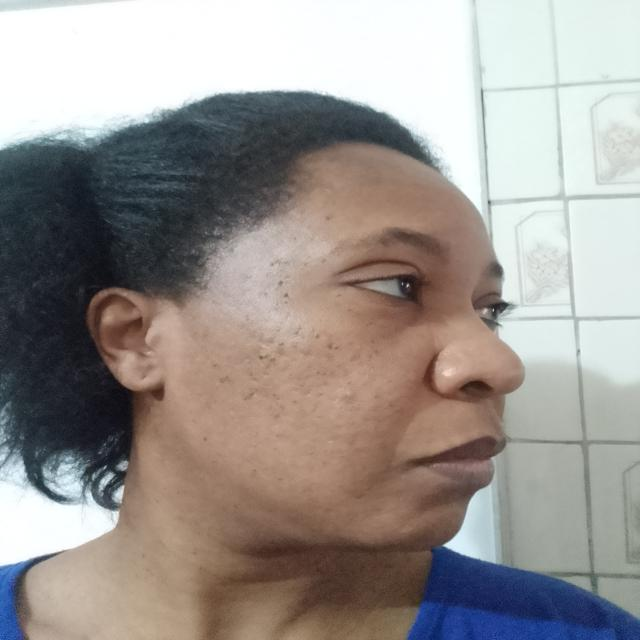Acne: (334, 397, 368, 411), (386, 401, 407, 420), (240, 308, 258, 324), (241, 390, 260, 404), (267, 405, 287, 418), (290, 233, 304, 249), (323, 210, 340, 223), (259, 352, 279, 363), (244, 370, 260, 383), (369, 337, 380, 355), (292, 396, 308, 408), (341, 377, 360, 387), (256, 289, 274, 299), (264, 262, 280, 272), (217, 375, 233, 385), (382, 375, 398, 385), (327, 338, 338, 352), (359, 465, 372, 476), (227, 502, 239, 513), (344, 388, 356, 399), (199, 436, 215, 444), (274, 340, 288, 348), (307, 452, 321, 460), (312, 332, 323, 342), (272, 390, 283, 400), (292, 328, 302, 338), (370, 391, 380, 401), (279, 290, 291, 298), (316, 368, 328, 376), (248, 467, 260, 475), (269, 279, 288, 284), (272, 444, 282, 453), (276, 475, 287, 483), (274, 431, 284, 439), (333, 295, 345, 299), (251, 443, 258, 449), (212, 363, 220, 368), (346, 309, 355, 313)
Englarged-Pores: (323, 416, 363, 443), (248, 336, 280, 358), (309, 386, 330, 409), (290, 377, 316, 393), (349, 356, 377, 370), (343, 486, 369, 501), (256, 363, 278, 377), (279, 310, 292, 333), (242, 328, 264, 341), (298, 348, 316, 360)
Eyebags: (379, 307, 439, 339)
Wrinkles: (392, 424, 418, 469), (406, 496, 429, 525)
